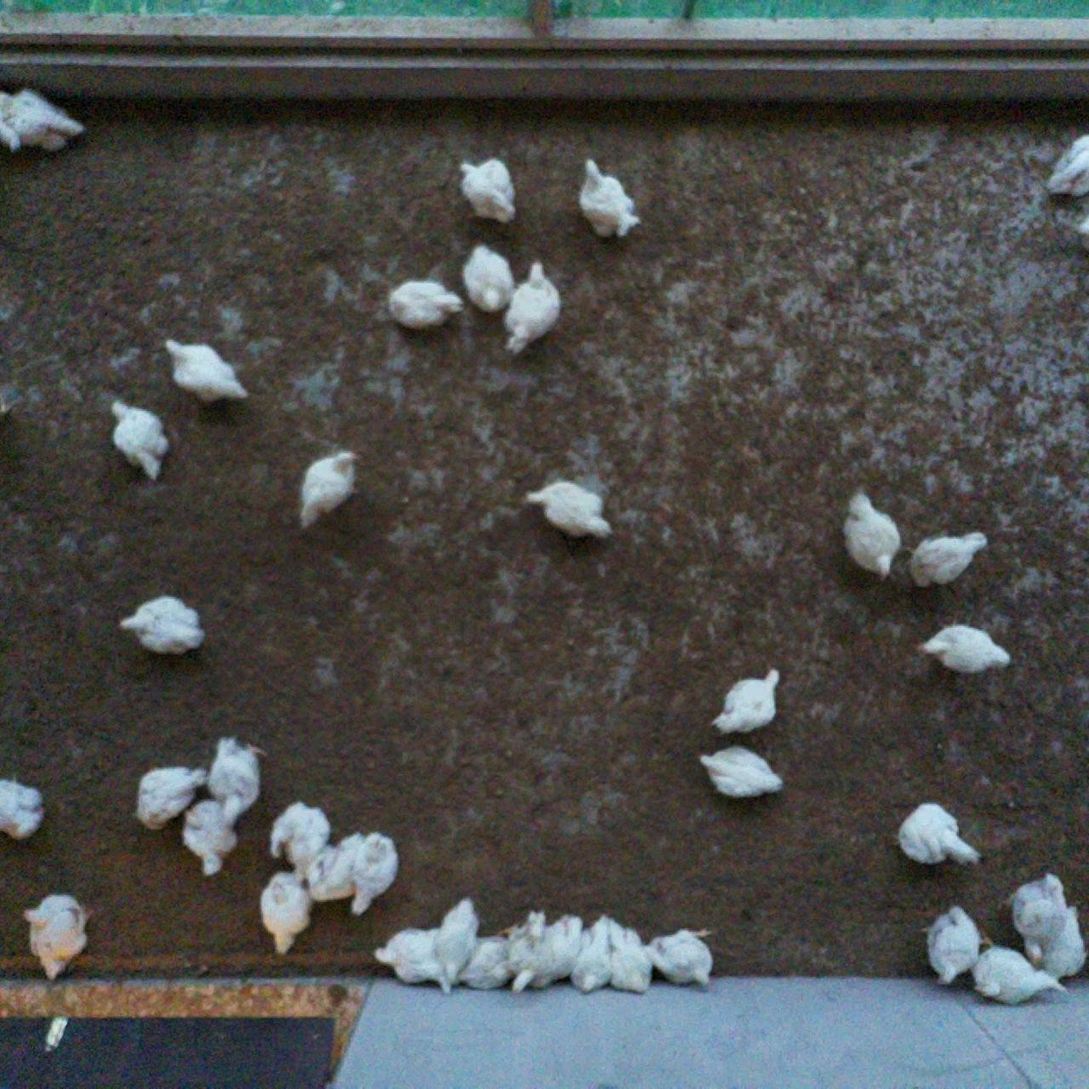chicken: (996, 868, 1068, 969), (159, 329, 250, 407), (16, 890, 91, 983), (895, 797, 986, 872), (0, 71, 83, 153), (969, 941, 1073, 1006), (836, 485, 904, 584), (495, 260, 565, 356), (909, 619, 1015, 680), (203, 731, 269, 824), (518, 481, 613, 545), (117, 591, 210, 656), (265, 797, 336, 882), (104, 395, 170, 486), (574, 149, 640, 240), (504, 910, 572, 997), (294, 442, 361, 529), (128, 761, 205, 835), (1028, 902, 1089, 995), (904, 526, 991, 591), (699, 740, 783, 806), (253, 870, 315, 957), (924, 905, 987, 989), (429, 895, 482, 993), (178, 798, 242, 879), (0, 83, 73, 154), (710, 664, 781, 736), (345, 830, 402, 918), (374, 927, 458, 986), (527, 913, 587, 994), (596, 915, 655, 997), (450, 930, 529, 991), (385, 275, 467, 333), (645, 928, 718, 992), (456, 153, 518, 228), (458, 237, 517, 314), (302, 839, 370, 902), (568, 917, 620, 998), (0, 772, 47, 844), (1047, 128, 1089, 208), (1075, 214, 1089, 257)
